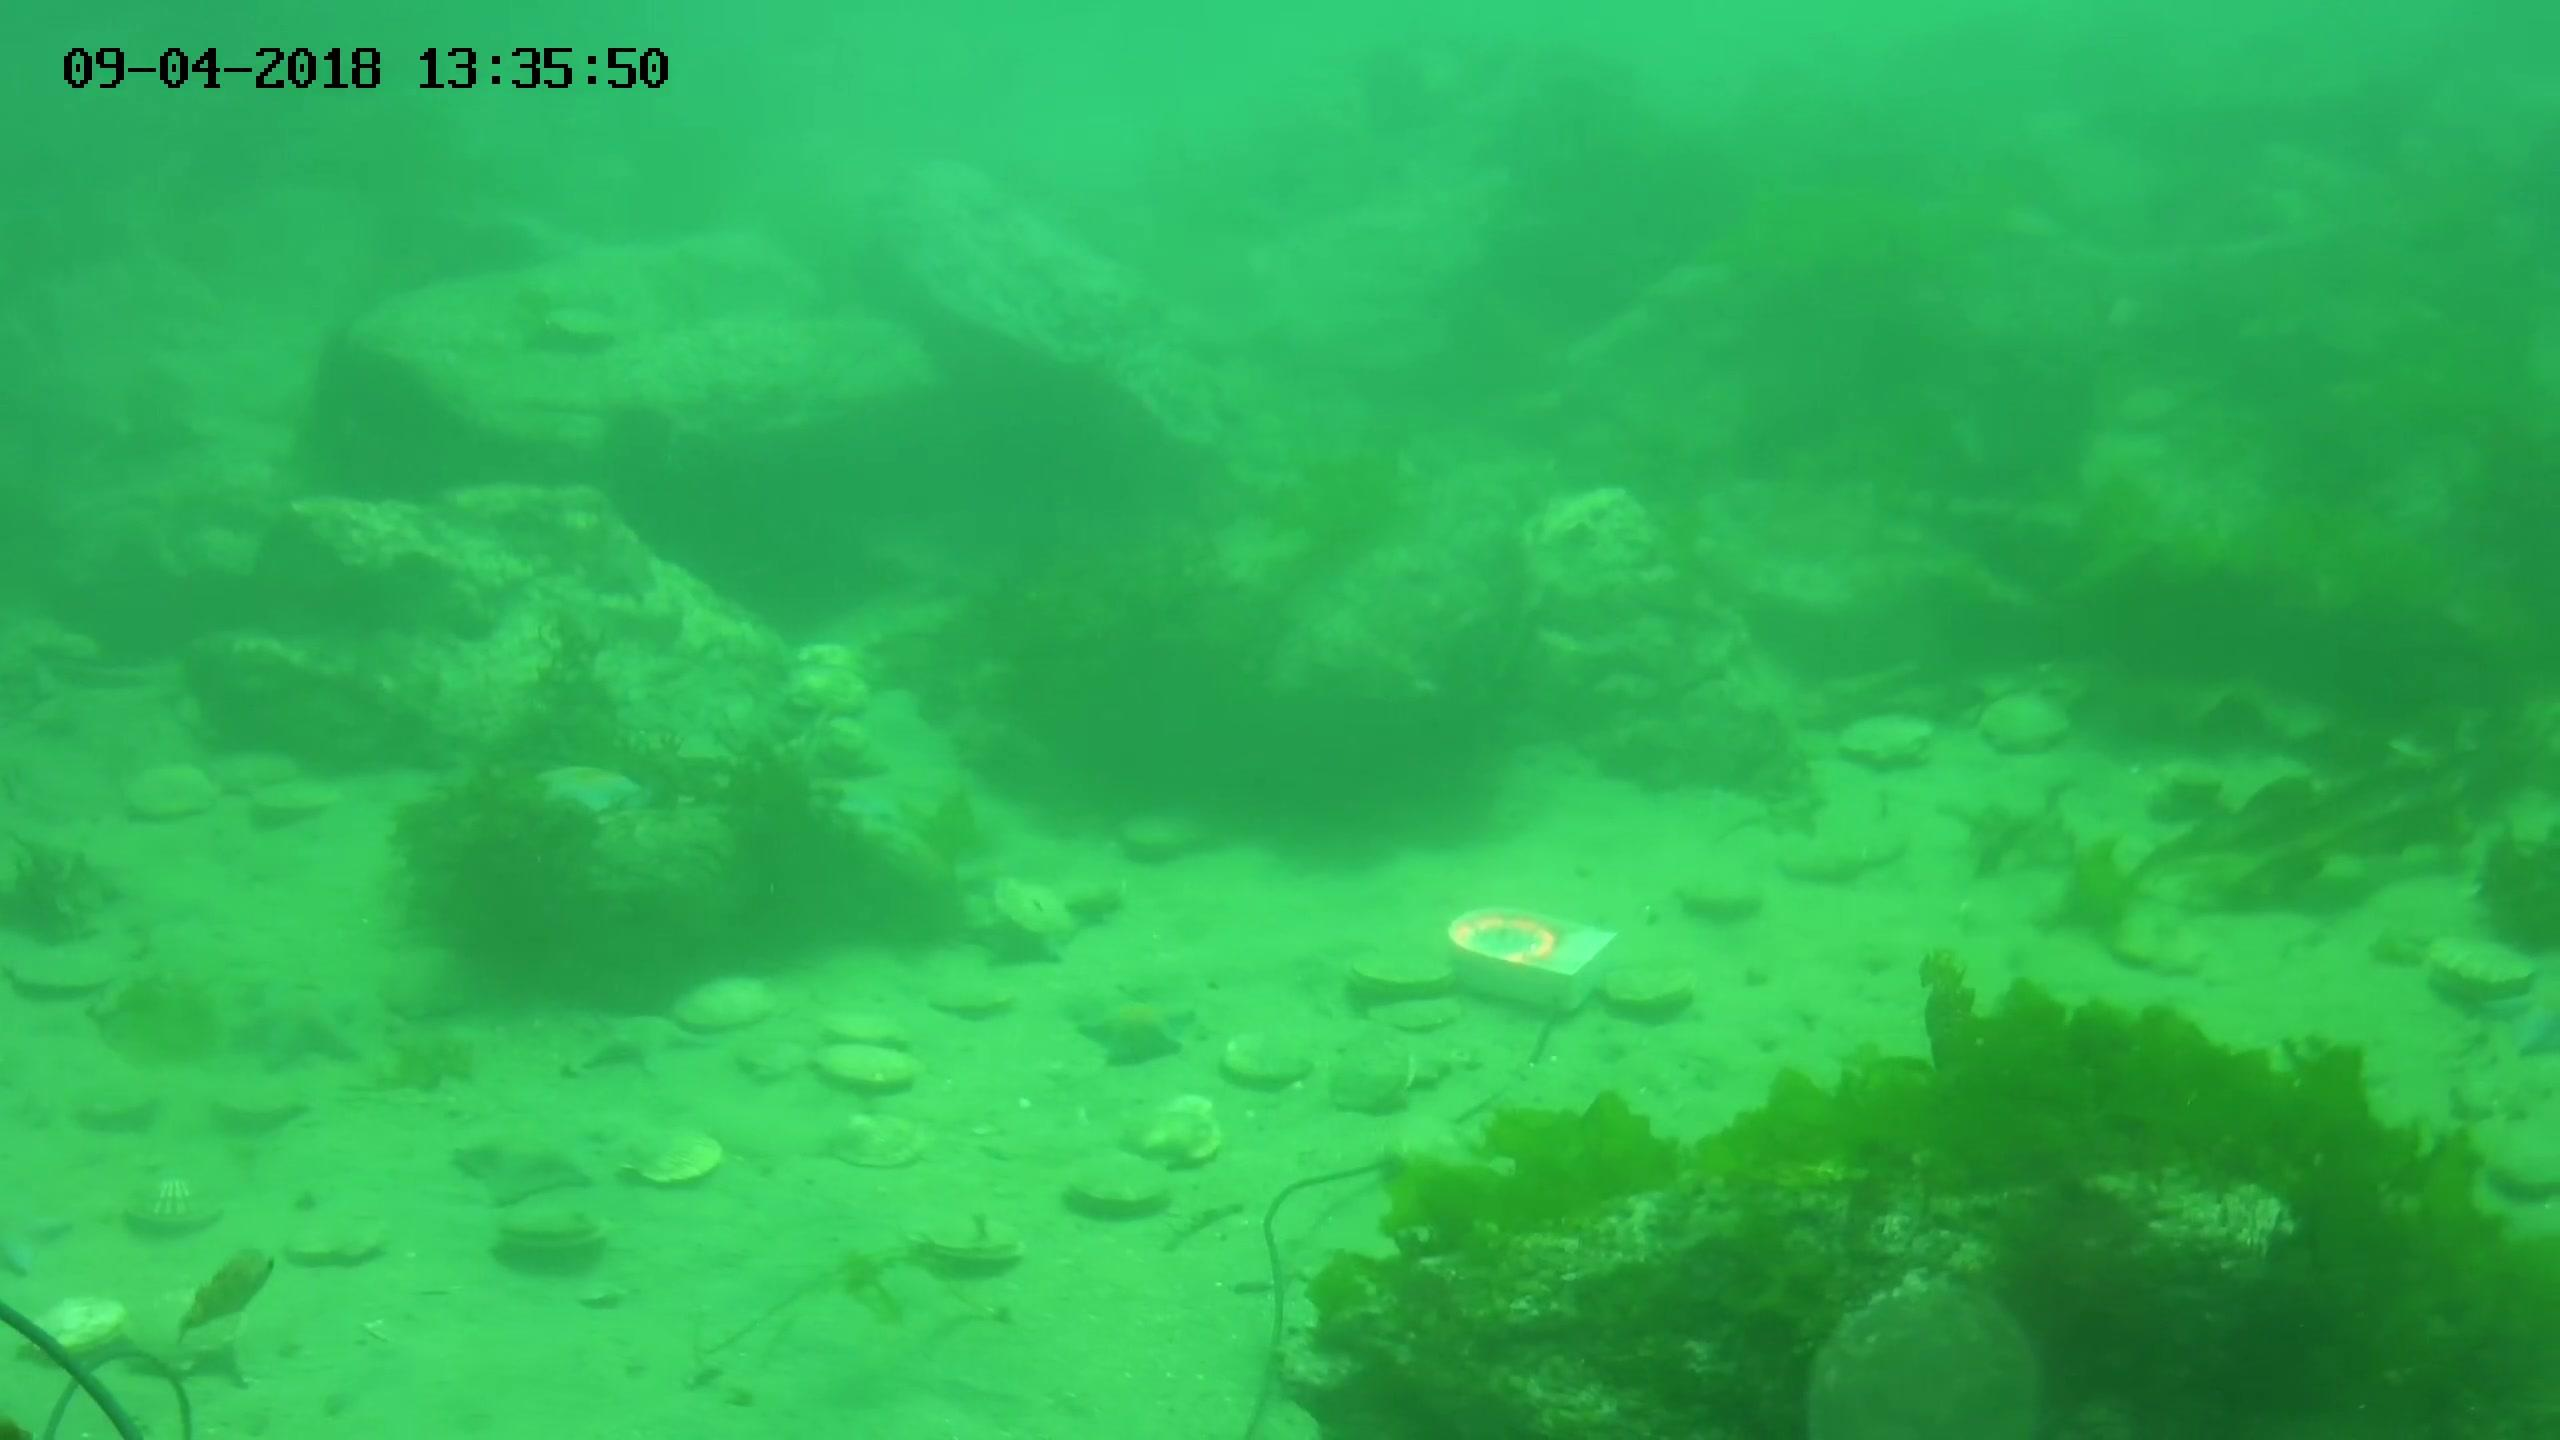scallop: (1779, 807, 1908, 879), (2426, 925, 2544, 1002), (911, 1206, 1029, 1275), (281, 1203, 392, 1275), (978, 876, 1087, 948), (1589, 951, 1700, 1022), (2, 939, 127, 999), (26, 1285, 127, 1359), (492, 1206, 610, 1268), (1073, 1150, 1178, 1215), (1111, 1094, 1220, 1155), (1823, 702, 1932, 761), (121, 1169, 223, 1233), (132, 760, 230, 825), (626, 1124, 724, 1189), (675, 971, 775, 1034), (833, 1109, 927, 1176), (1333, 1032, 1414, 1108), (1354, 948, 1463, 1000), (209, 1078, 322, 1129), (60, 1071, 156, 1129), (1220, 1029, 1312, 1088), (248, 777, 345, 826), (819, 1043, 918, 1090), (1679, 867, 1769, 914), (925, 978, 1015, 1023), (1122, 812, 1210, 856), (819, 1011, 913, 1050), (211, 745, 288, 789), (1384, 995, 1466, 1029)
starfish: (237, 969, 364, 1073), (561, 1006, 693, 1085), (1078, 988, 1194, 1071), (443, 1146, 600, 1206), (535, 758, 649, 828), (2498, 979, 2560, 1062), (397, 1032, 482, 1088)
